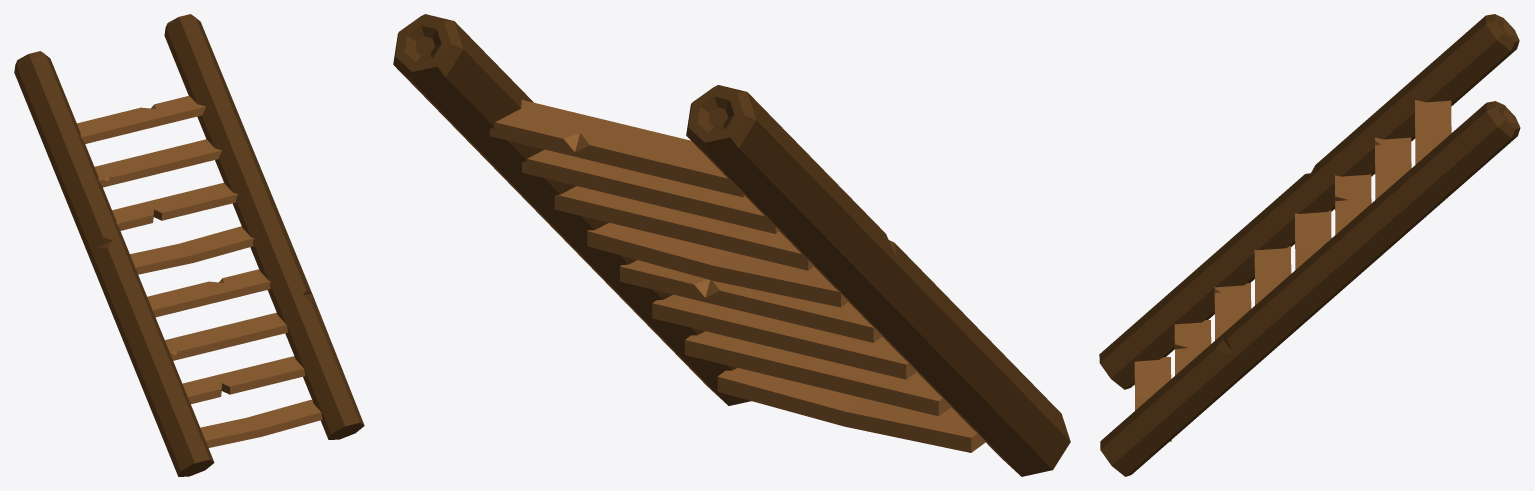
The model's file is E_Staircase.fbx.
3 renders of one model, left to right at view 1: azimuth 30°, elevation 25°; view 2: azimuth 150°, elevation 25°; view 3: azimuth 270°, elevation 25°, orthographic. The views are drawn at different scales.
Parts seen in each view (by area): view 1: E_Staircase; view 2: E_Staircase; view 3: E_Staircase.
Boxes of the visible parts, box(x1,y1,x2,y2) form: E_Staircase: box(14, 14, 364, 476); E_Staircase: box(393, 14, 1070, 476); E_Staircase: box(1099, 14, 1520, 476).
Bounding box in the file's own units: 140 × 225 × 232.
